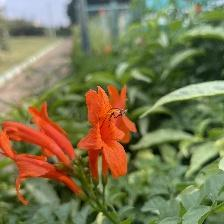honeysuckle: (79, 81, 138, 192)
